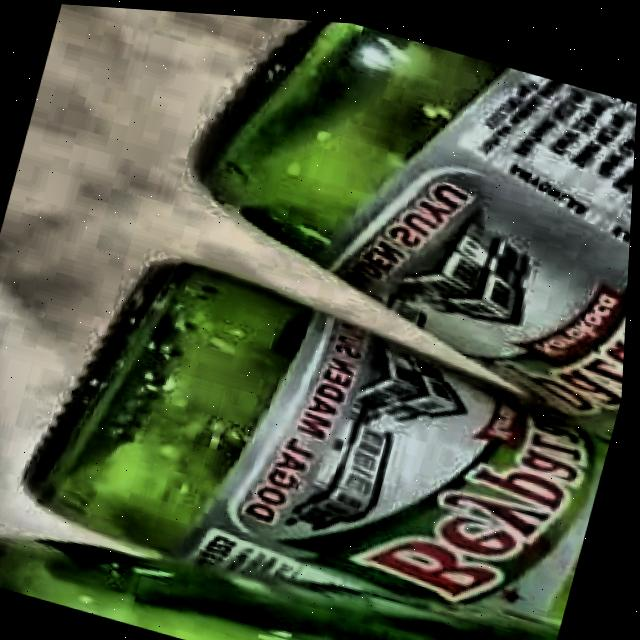glass: (0, 16, 638, 640)
